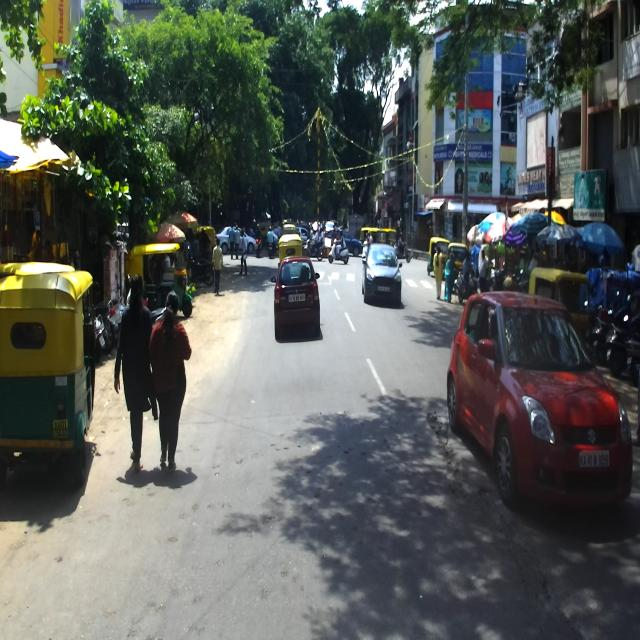auto ahead at: (3, 262, 101, 470)
car ahead at: (448, 289, 635, 513), (275, 250, 324, 338), (360, 236, 408, 307)
